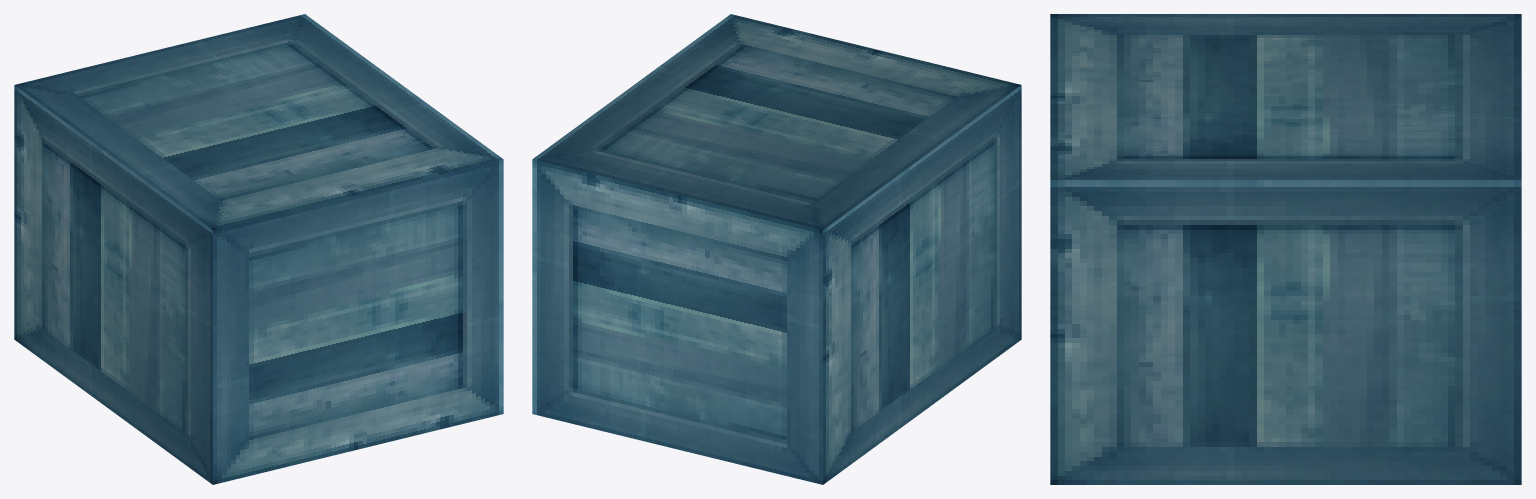
Rendered from hghfh07.glb.
3 renders of one model, left to right at view 1: azimuth 30°, elevation 25°; view 2: azimuth 150°, elevation 25°; view 3: azimuth 270°, elevation 25°, orthographic. The views are drawn at different scales.
Visible parts, largest first — view 1: hghfh07; view 2: hghfh07; view 3: hghfh07.
Part boxes in pixels (left/top/right/bottom): hghfh07: left=14, top=14, right=503, bottom=484; hghfh07: left=532, top=14, right=1021, bottom=484; hghfh07: left=1050, top=14, right=1521, bottom=484.
Size of the model in its own units: 368 by 308 by 436.
Materials: 2 (2 with a texture image).
